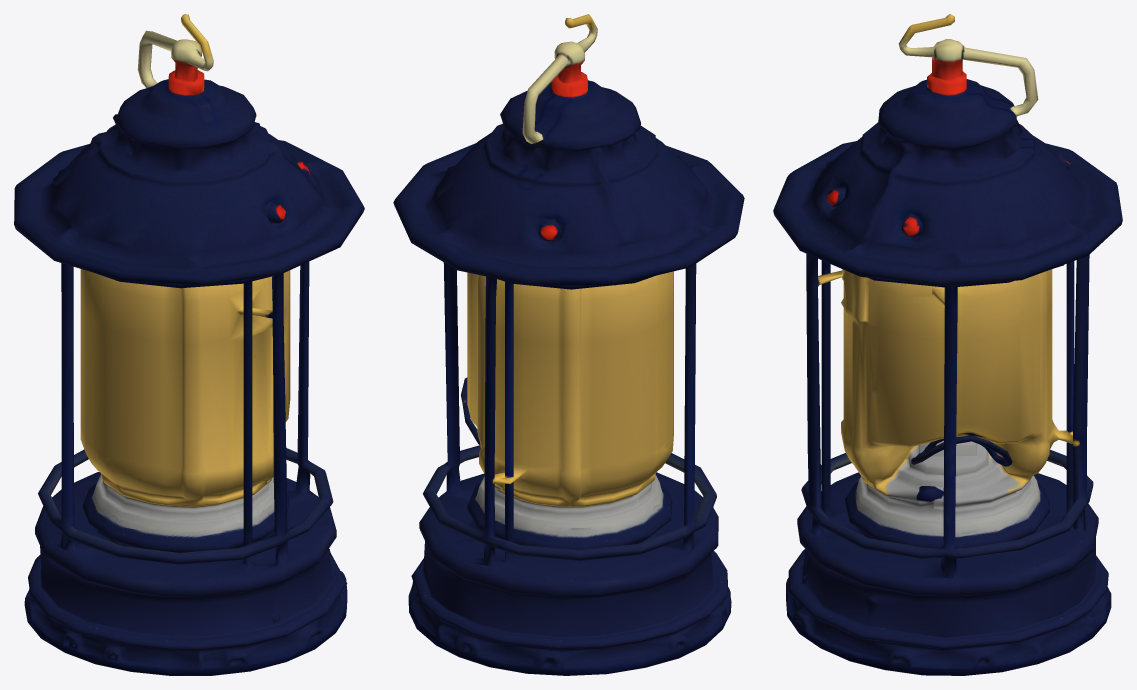
3 views of the same model, side by side, from view 1: azimuth 30°, elevation 25°; view 2: azimuth 150°, elevation 25°; view 3: azimuth 270°, elevation 25° (orthographic).
Parts seen in each view (by area): view 1: tripo_node_b0e31a3e-8f62-426d-b915-b2acdedf3d3a; view 2: tripo_node_b0e31a3e-8f62-426d-b915-b2acdedf3d3a; view 3: tripo_node_b0e31a3e-8f62-426d-b915-b2acdedf3d3a.
Part boxes in pixels (left/top/right/bottom): tripo_node_b0e31a3e-8f62-426d-b915-b2acdedf3d3a: left=14, top=14, right=364, bottom=675; tripo_node_b0e31a3e-8f62-426d-b915-b2acdedf3d3a: left=393, top=14, right=744, bottom=675; tripo_node_b0e31a3e-8f62-426d-b915-b2acdedf3d3a: left=773, top=14, right=1122, bottom=675.
Size of the model in its own units: 0.1877 by 0.35 by 0.187.
1 material, 1 textured.
